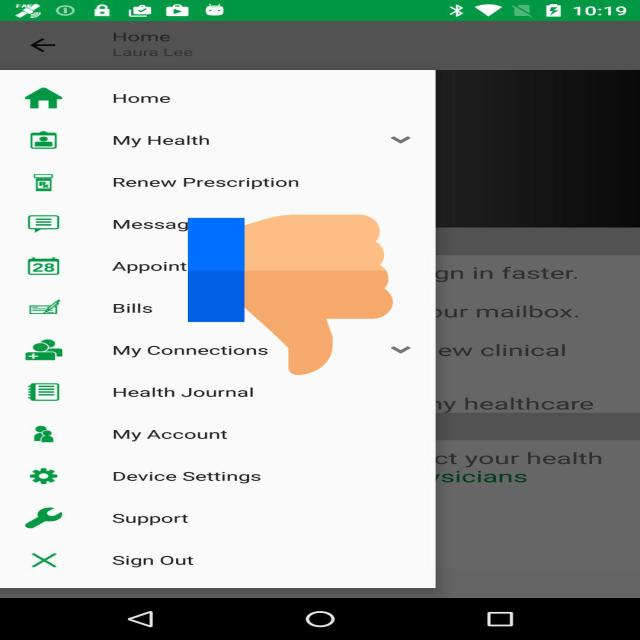obstruction: (188, 211, 393, 379)
